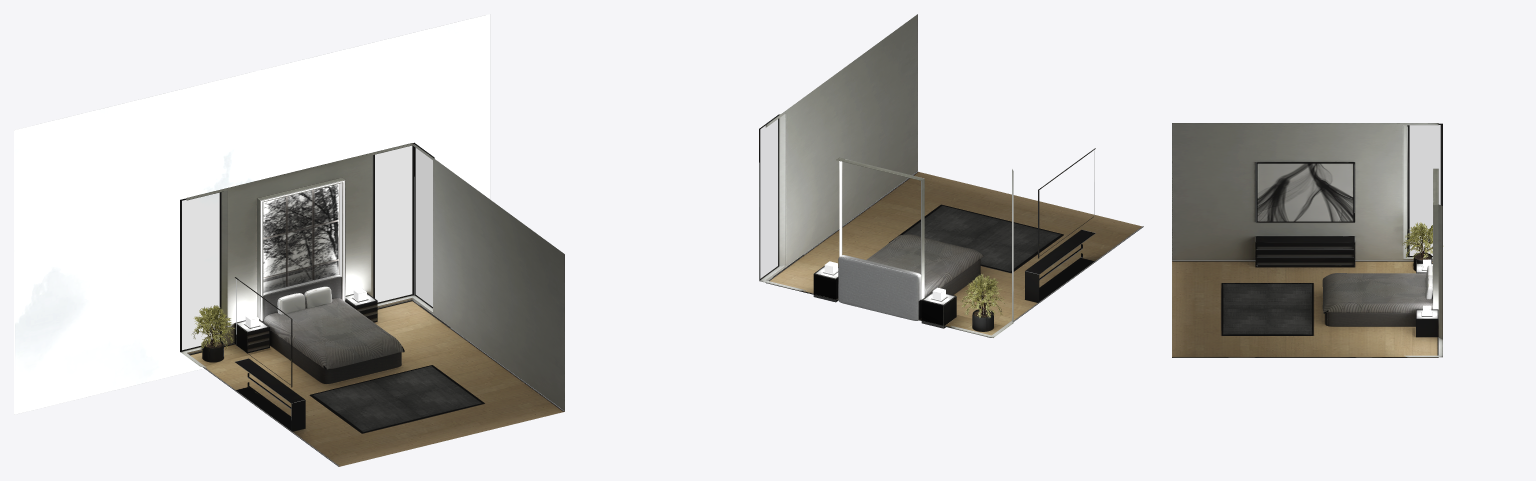
The model's file is room4.glb.
The picture shows the model from 3 angles, left to right: view 1: azimuth 30°, elevation 25°; view 2: azimuth 150°, elevation 25°; view 3: azimuth 270°, elevation 25°; orthographic projection. The views are drawn at different scales.
Visible parts, largest first — view 1: Bedroom_Bedroom_0, Bedroom_Windows_0, Bedroom_Carpet_0, Bedroom_Duvet_0; view 2: Bedroom_Bedroom_0, Bedroom_Carpet_0, Bedroom_Duvet_0, Bedroom_Windows_0; view 3: Bedroom_Bedroom_0, Bedroom_Carpet_0, Bedroom_Duvet_0, Bedroom_Windows_0.
Part boxes in pixels (left/top/right/bottom): Bedroom_Bedroom_0: left=14, top=14, right=564, bottom=466; Bedroom_Windows_0: left=182, top=146, right=432, bottom=349; Bedroom_Carpet_0: left=310, top=365, right=484, bottom=433; Bedroom_Duvet_0: left=263, top=298, right=404, bottom=369; Bedroom_Bedroom_0: left=759, top=14, right=1143, bottom=338; Bedroom_Carpet_0: left=889, top=204, right=1063, bottom=273; Bedroom_Duvet_0: left=866, top=234, right=983, bottom=297; Bedroom_Windows_0: left=760, top=119, right=777, bottom=278; Bedroom_Bedroom_0: left=1172, top=123, right=1443, bottom=357; Bedroom_Carpet_0: left=1221, top=283, right=1313, bottom=335; Bedroom_Duvet_0: left=1322, top=273, right=1432, bottom=313; Bedroom_Windows_0: left=1410, top=125, right=1440, bottom=255.
Size of the model in its own units: 10.83 by 6.19 by 7.86.
4 materials, 3 textured.
